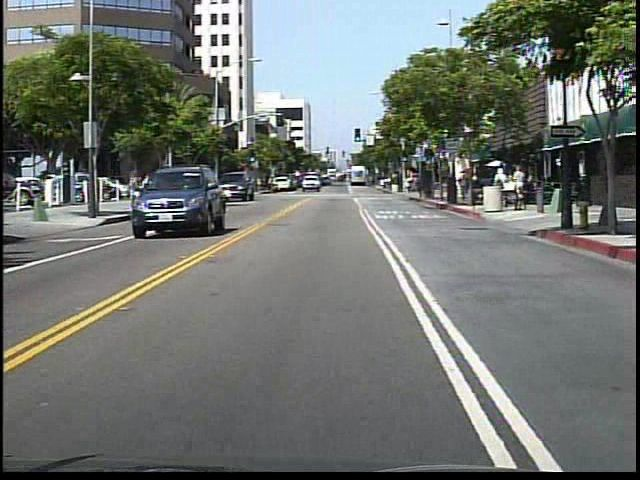person: (457, 173, 472, 203), (264, 170, 277, 198)
